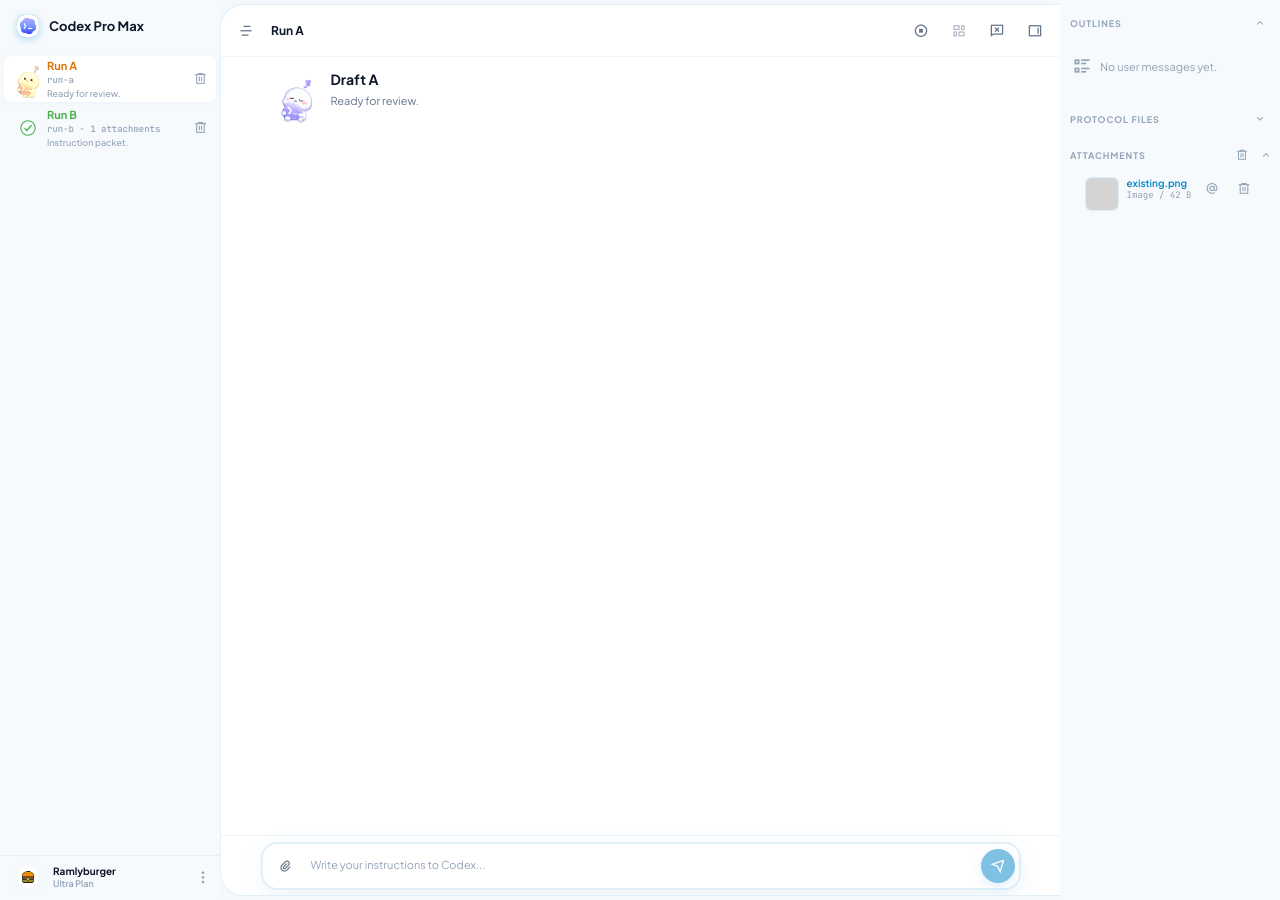
it: App › sends new instructions to the selected run endpoint
In the text box labelled "instruction": (640, 866) [310, 852, 970, 880], type "Keep waiting and start the next task."
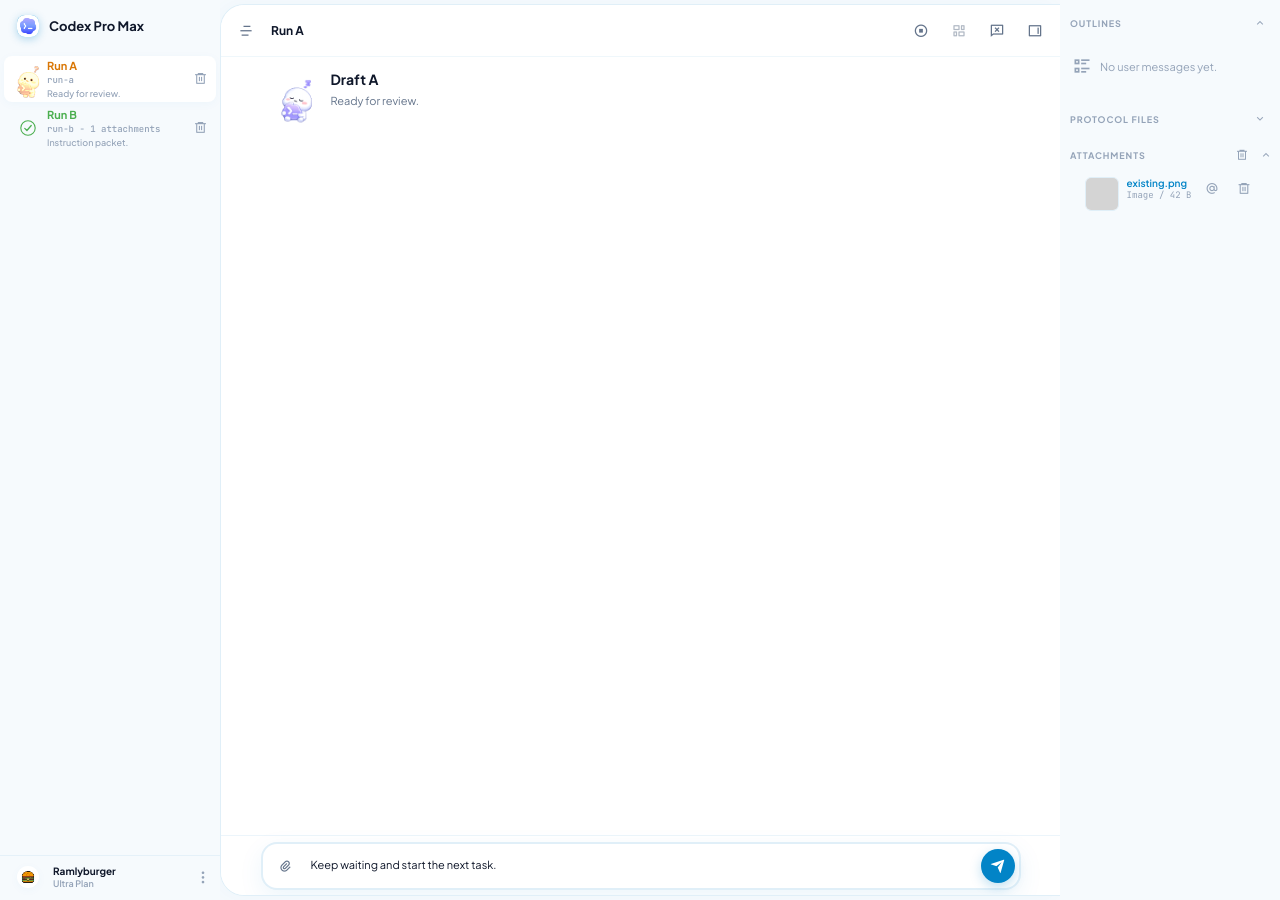
Click the button named "send to codex": (998, 866) [980, 849, 1014, 883]
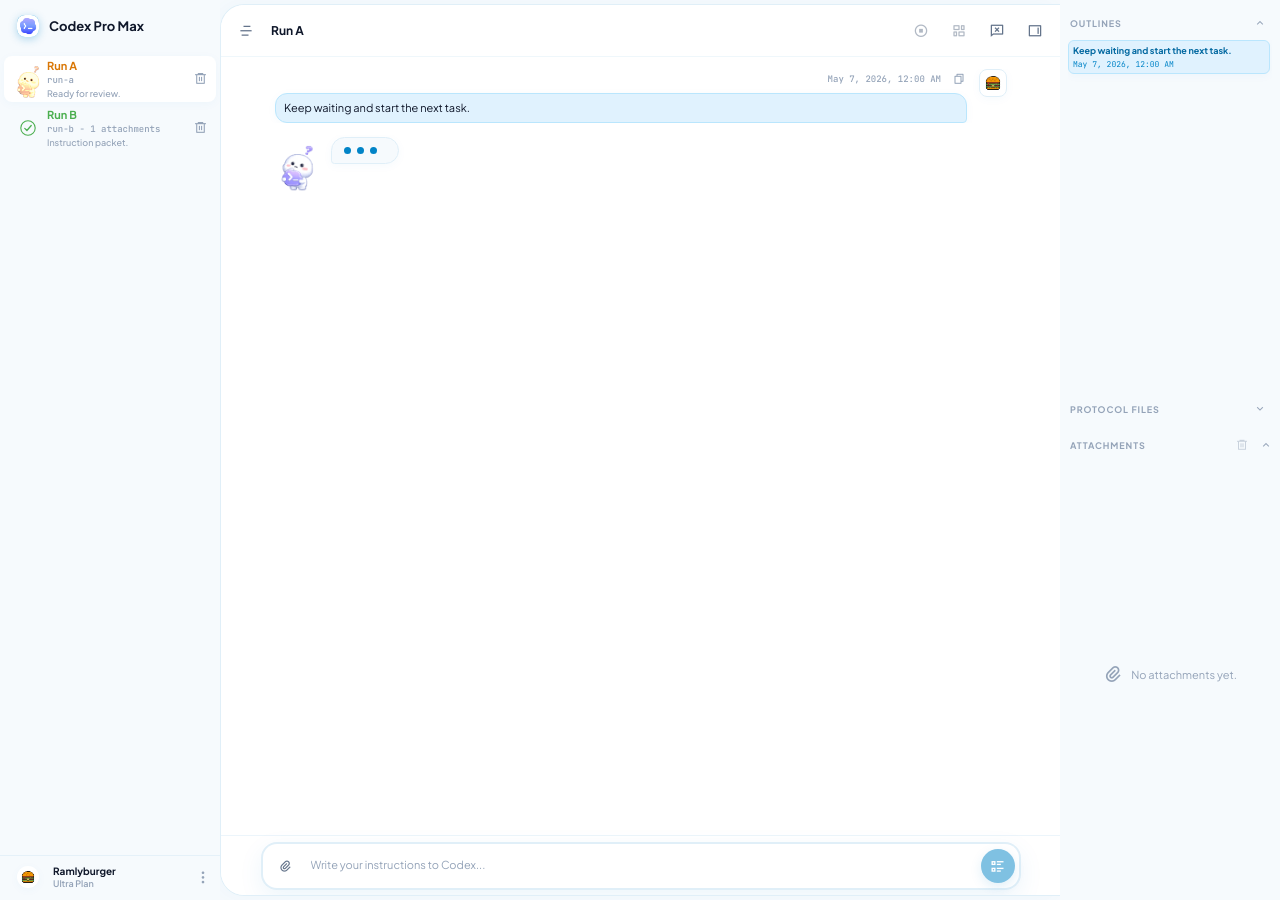
Expected: the element with test id "ai-loading-indicator" is shown, [274, 135, 398, 193]
